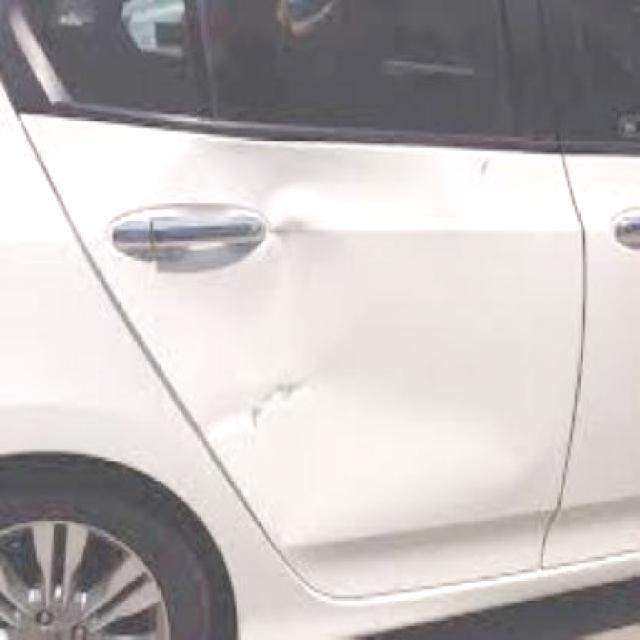minor: (254, 191, 352, 302), (228, 369, 320, 449), (480, 163, 492, 182)
